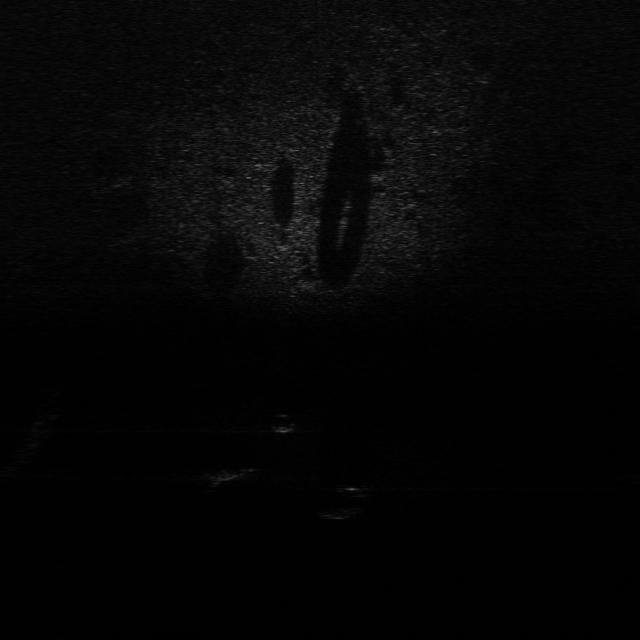ball: (264, 411, 300, 435)
square cage: (201, 456, 247, 488)
tyre: (313, 478, 372, 520)
